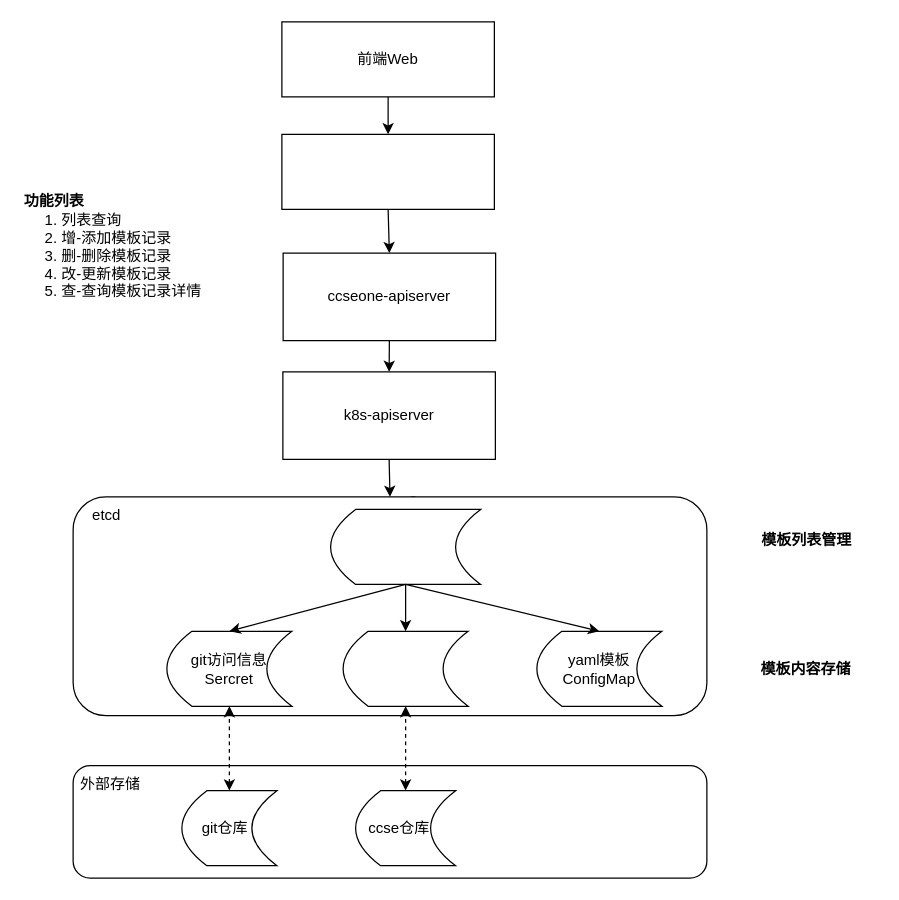
The diagram is 899 pixels wide and 900 high, and some of its shapes have lost their labels. The shapes that lost their labels are listed below. From the top down, each one's centre as x and y in pixels, then its label:
At (387,171): "网关(规划建设)".
At (405,546): "模板记录 CRD:template".
At (405,668): "ccse访问信息 Sercret".
